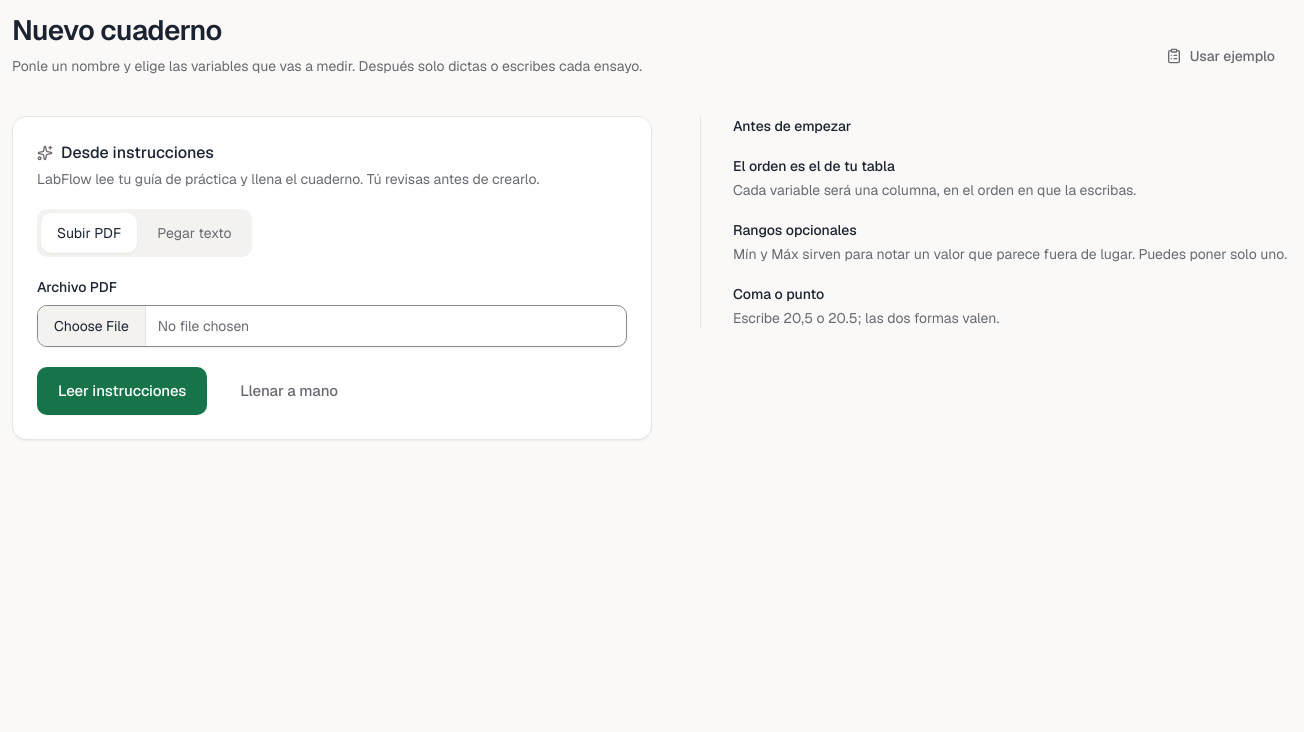
Scenario: a failed read (AC-28) › shows a 409 or 422 in the panel and attaches nothing
This screenshot has width=1304, height=732.
Click the radio button labelled "Pegar texto" at (194, 233), box [157,224,232,242]
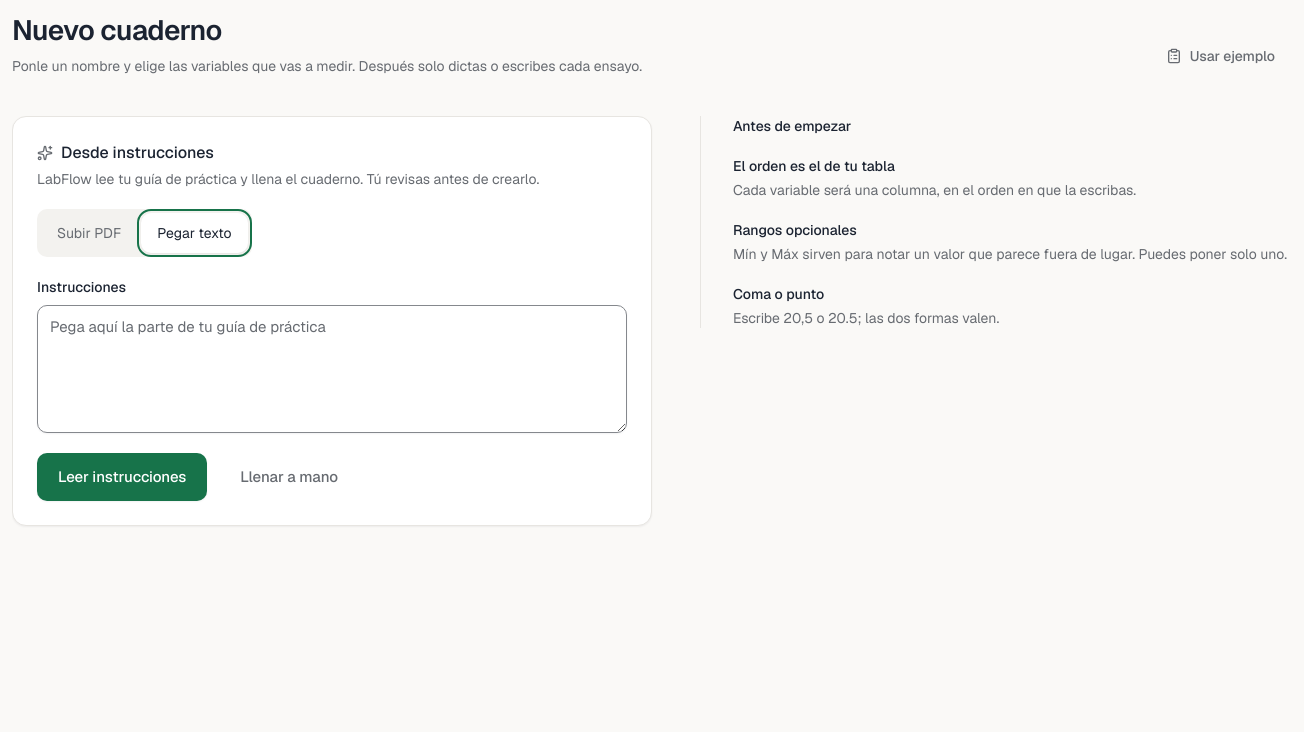
Click the text box labelled "Instrucciones" at (332, 369), box [37,305,627,433]
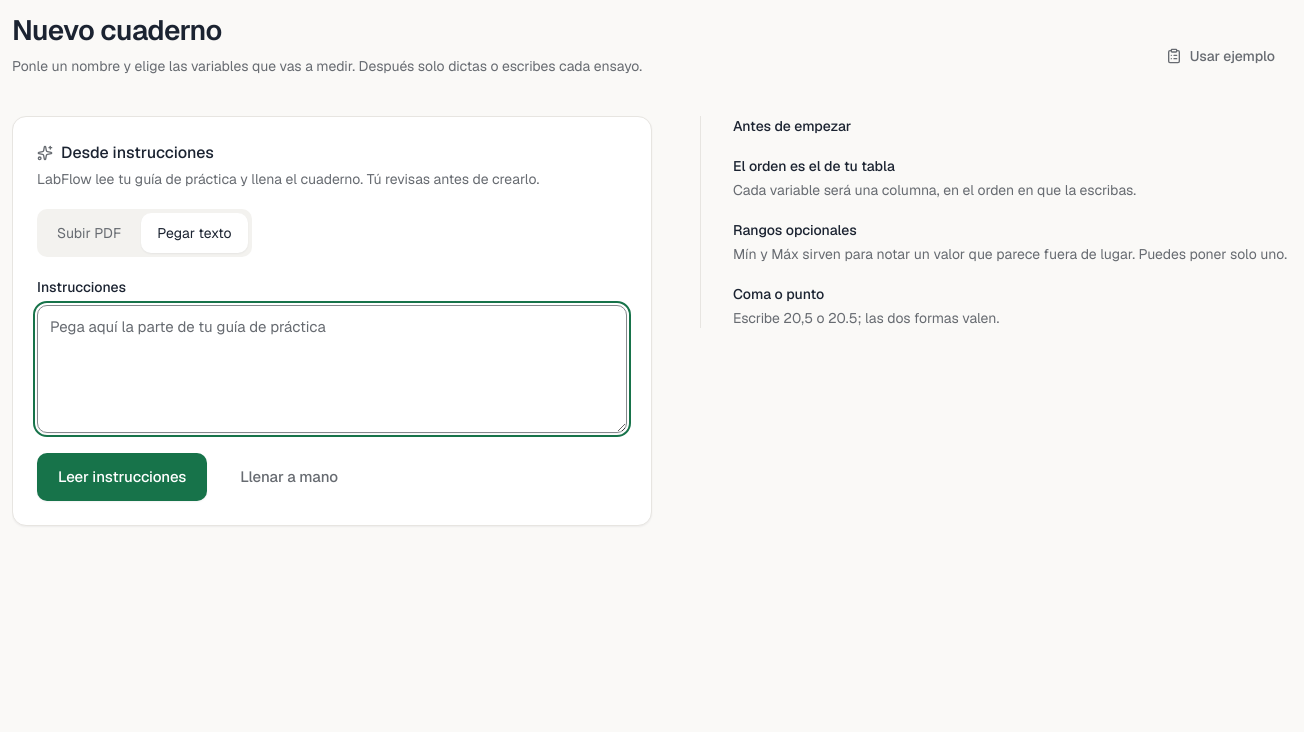
Type keys "Práctica 3. Mida la temperatura (entre 40 y 80 °C) y el rendimiento en %."
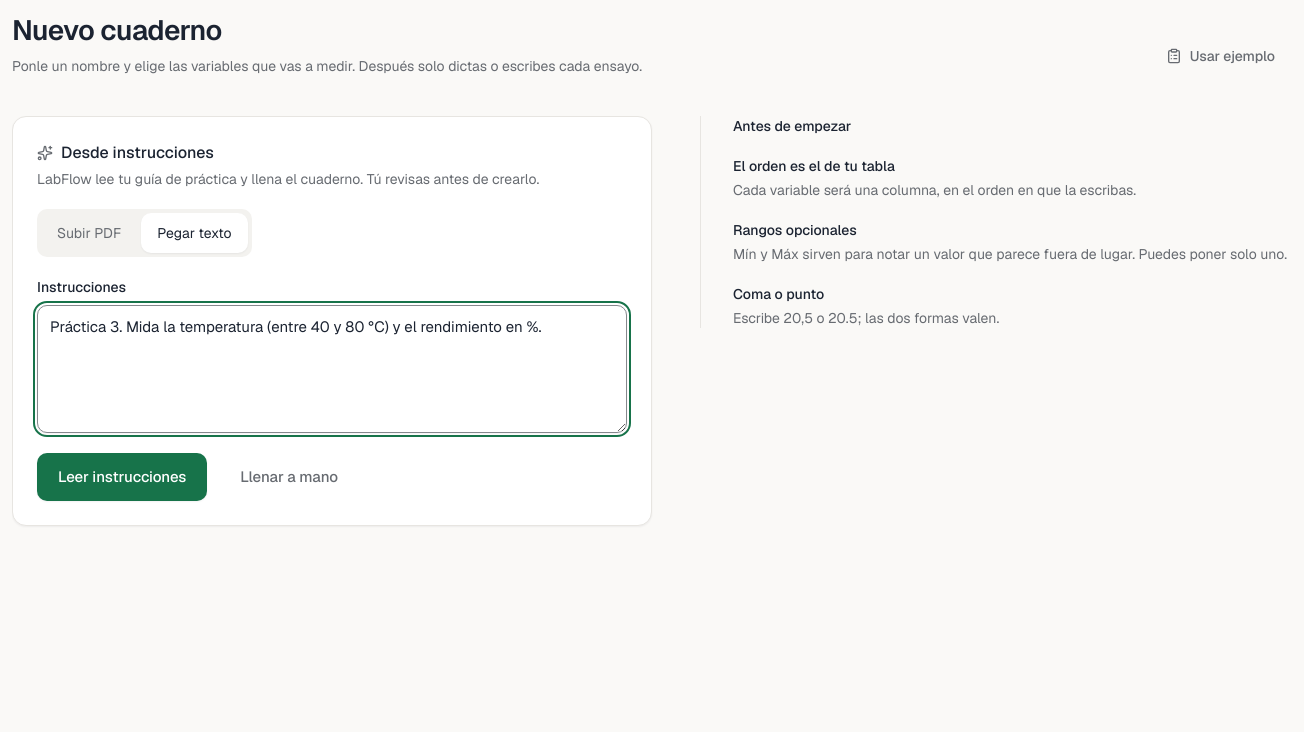
Click the button "Leer instrucciones" at (122, 477), box [37,453,207,501]
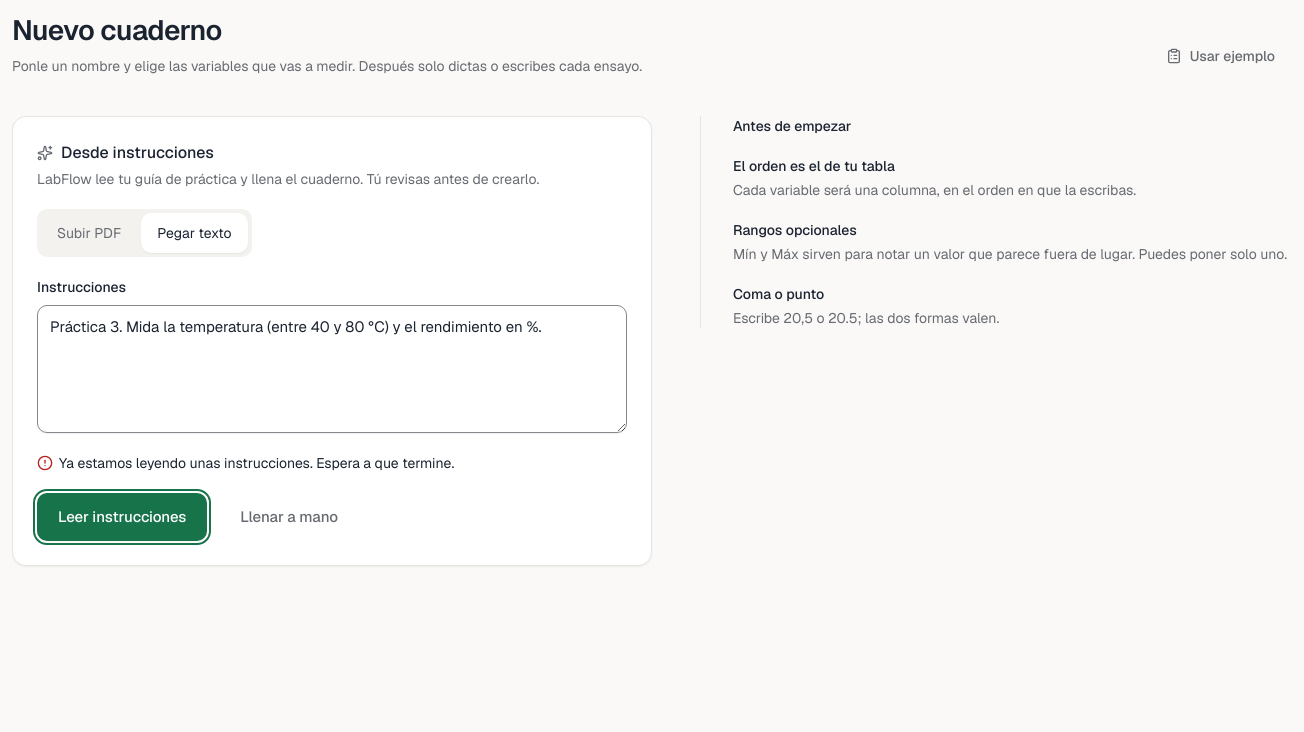
Now the text "Ya estamos leyendo unas instrucciones. Espera a que termine." is shown, box [37,454,454,472]
